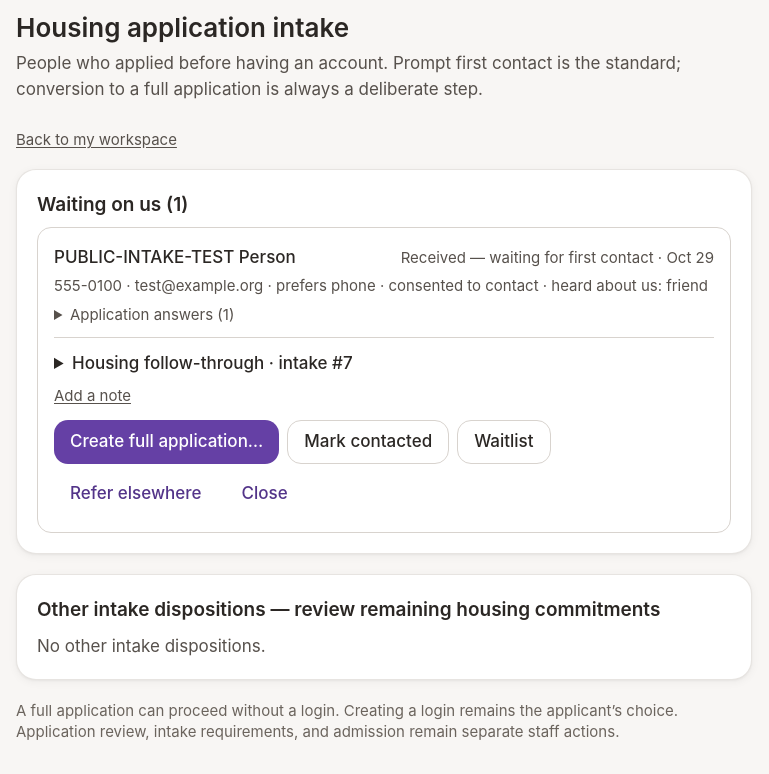
IntakeQueuePage › surfaces a server refusal verbatim instead of pretending success
Click the button "Waitlist" at (504, 442), box 457,420 -> 551,464
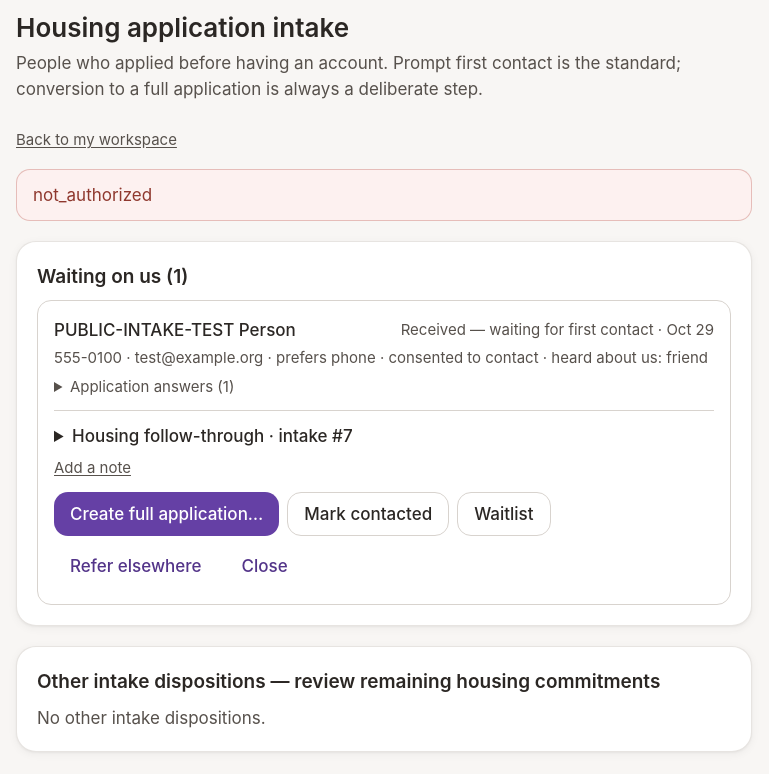
Expected: the text "not_authorized" is shown, 16,169 -> 752,221
